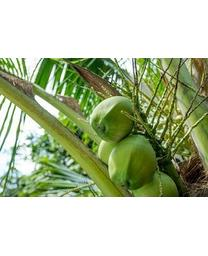coconut: (108, 136, 157, 188), (87, 93, 136, 141), (134, 169, 180, 198)
